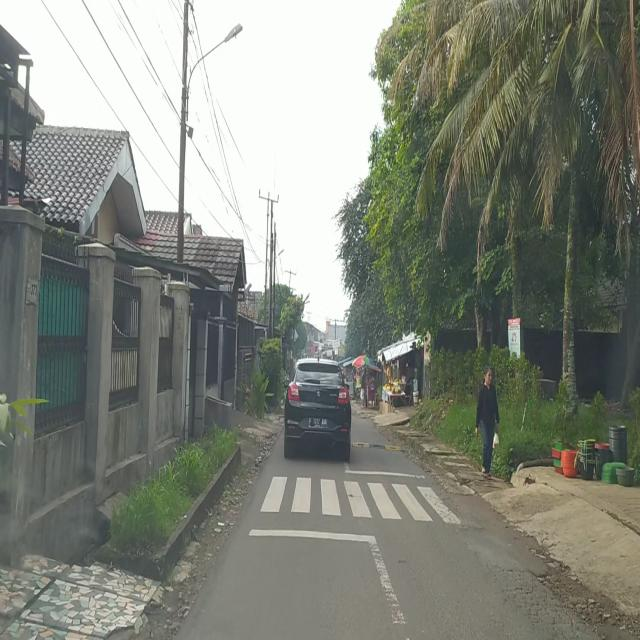Drain Hole: (475, 559, 593, 640), (426, 478, 472, 533)
